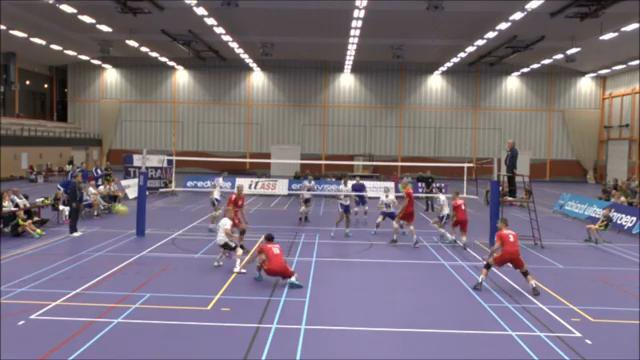Dig: (245, 229, 304, 291)
Player: (473, 218, 539, 295), (214, 207, 245, 272), (390, 179, 418, 246), (227, 184, 247, 249), (331, 177, 351, 236), (372, 187, 396, 234), (433, 190, 453, 242), (209, 172, 226, 230), (451, 191, 467, 249), (351, 177, 367, 223), (299, 175, 314, 222)
ball: (111, 201, 130, 216)
